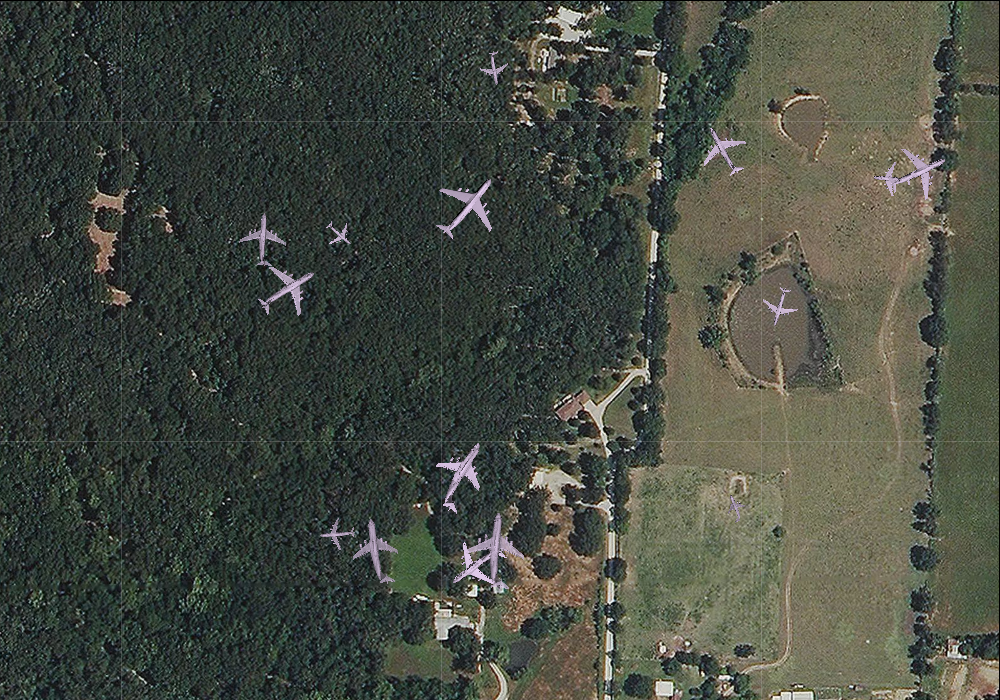plane: (417, 156, 516, 256), (416, 428, 509, 524), (245, 248, 330, 332), (437, 525, 518, 606), (459, 509, 537, 593), (877, 133, 957, 211), (689, 115, 758, 185), (345, 515, 411, 588), (236, 211, 291, 268), (757, 282, 803, 330), (318, 213, 360, 254), (872, 159, 912, 197), (476, 48, 513, 87), (318, 516, 355, 551), (718, 491, 751, 526)
